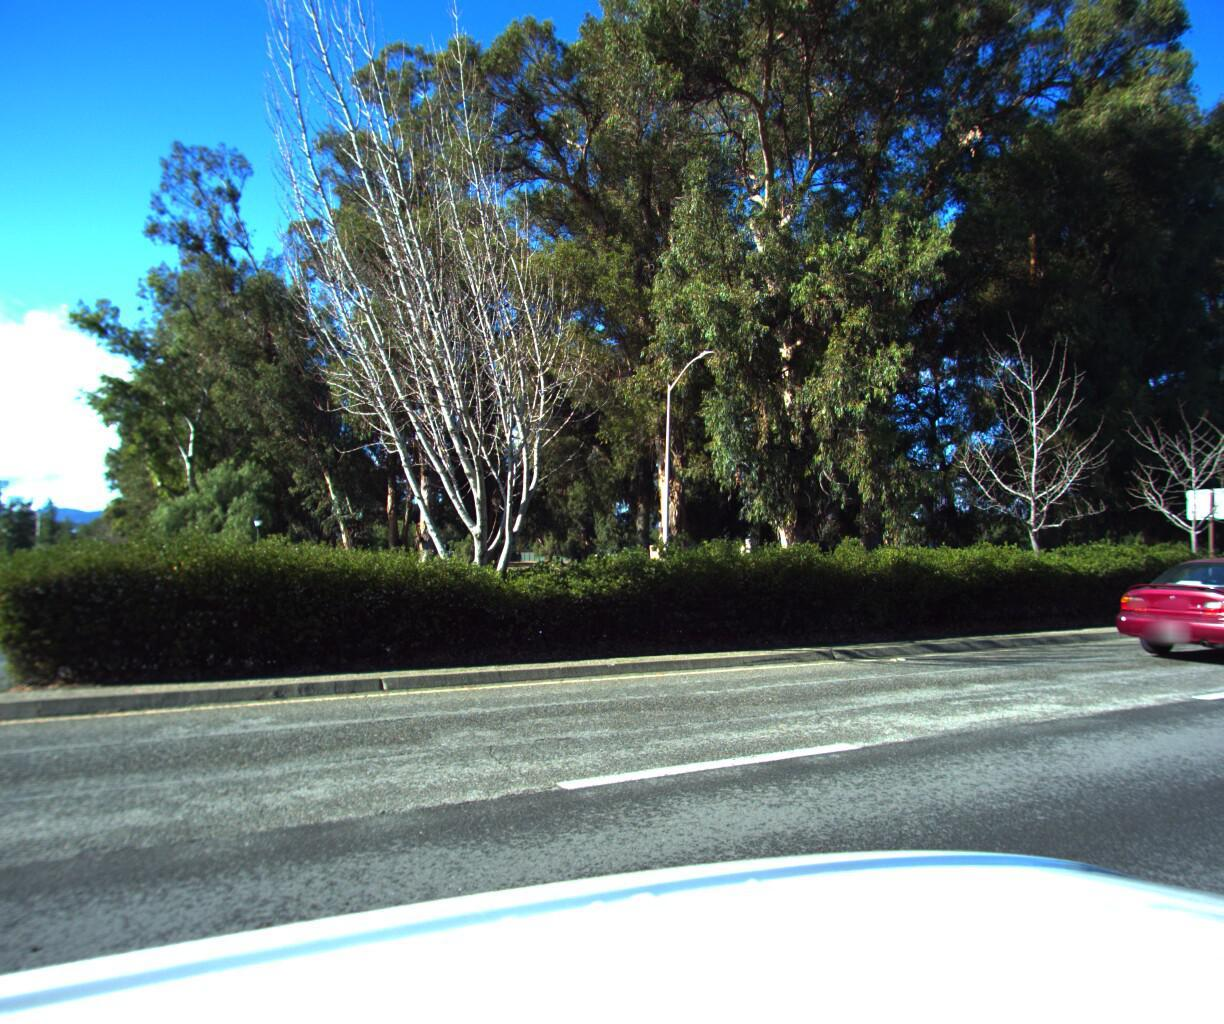car: (1102, 547, 1224, 670)
